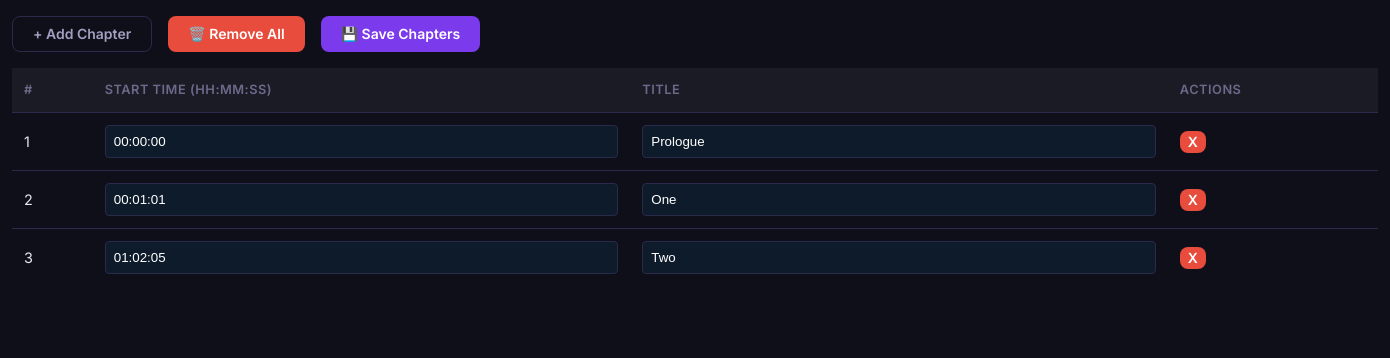
Test: ChapterEditor › reports a failed save and leaves the edits on screen
Check: the table is shown, box [12,68,1378,286]
Replace the text in the 2nd field with "Renamed" at point(899, 142), box [642,126,1156,158]
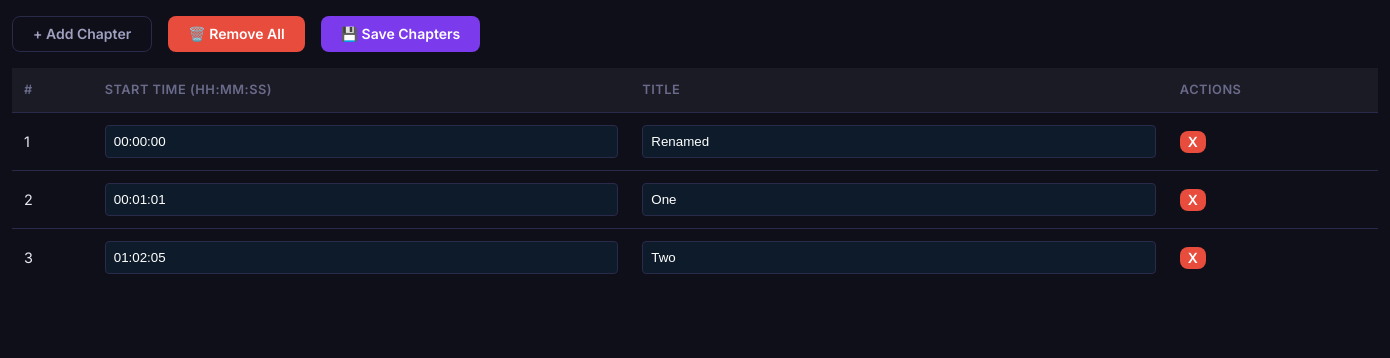
Click the button "💾 Save Chapters" at point(400, 34), box [321,16,480,52]
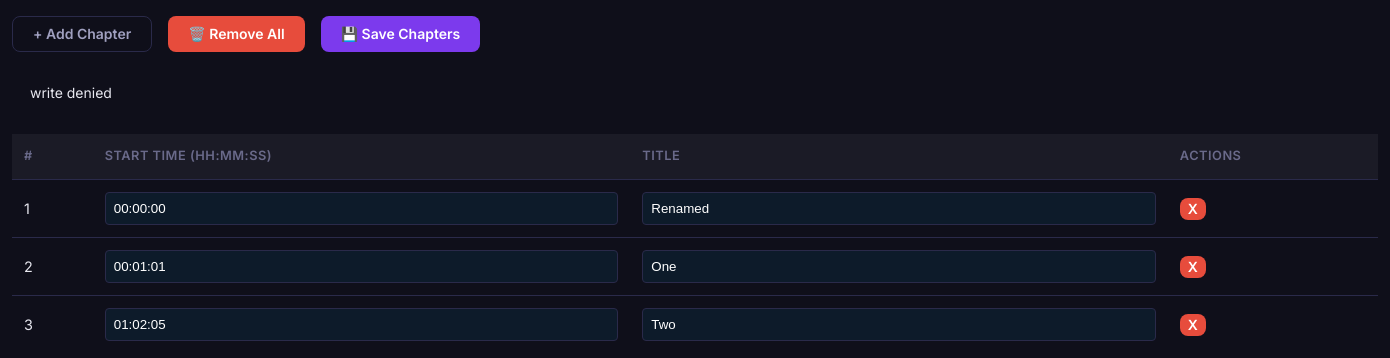
Check: the text "write denied" is shown, box [30,84,112,101]
